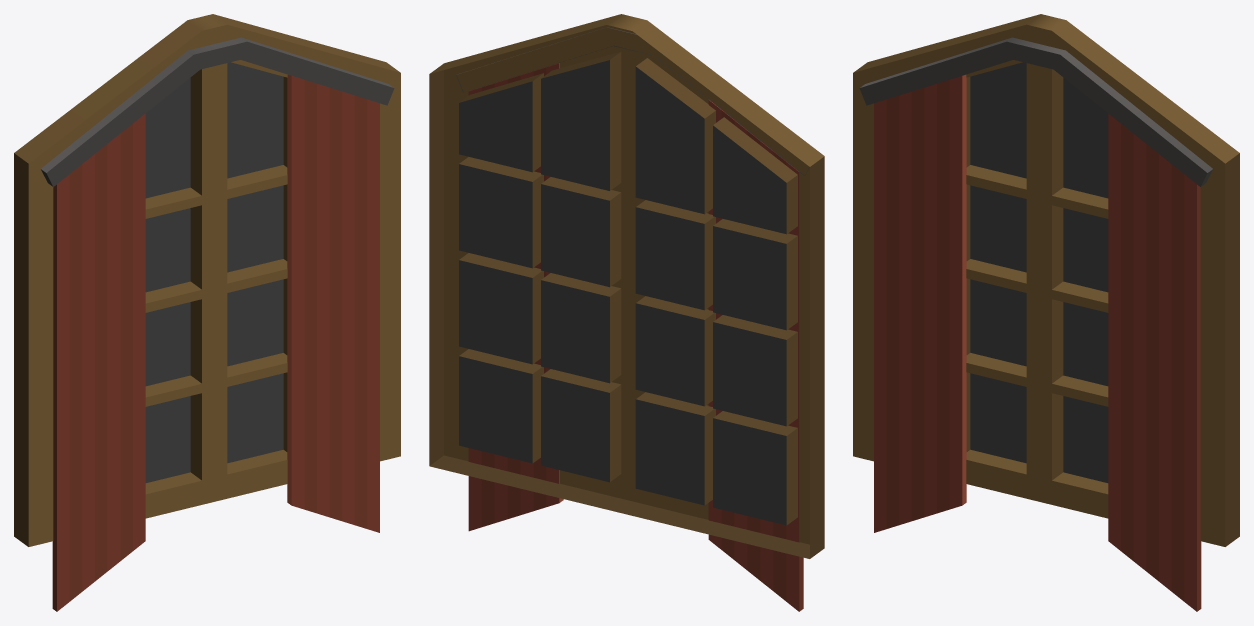
The model's file is SM_Env_Window_03.glb.
3 views of the same model, side by side, from view 1: azimuth 30°, elevation 25°; view 2: azimuth 150°, elevation 25°; view 3: azimuth 330°, elevation 25° (orthographic). The views are drawn at different scales.
Visible parts, largest first — view 1: SM_Env_Window_03; view 2: SM_Env_Window_03; view 3: SM_Env_Window_03.
Boxes of the visible parts, left/top/right/bottom form: SM_Env_Window_03: left=14, top=14, right=400, bottom=611; SM_Env_Window_03: left=429, top=14, right=824, bottom=611; SM_Env_Window_03: left=853, top=14, right=1239, bottom=611.
Bounding box in the file's own units: 0.02 × 0.0278 × 0.00188.
Materials: 1 (1 with a texture image).
